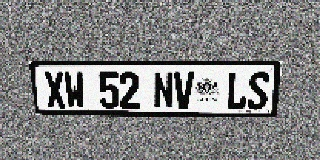2: (119, 72, 140, 109)
5: (98, 72, 120, 109)
L: (226, 72, 249, 109)
N: (153, 72, 173, 109)
S: (246, 72, 270, 110)
V: (174, 72, 194, 109)
W: (63, 72, 86, 108)
X: (43, 72, 66, 108)
